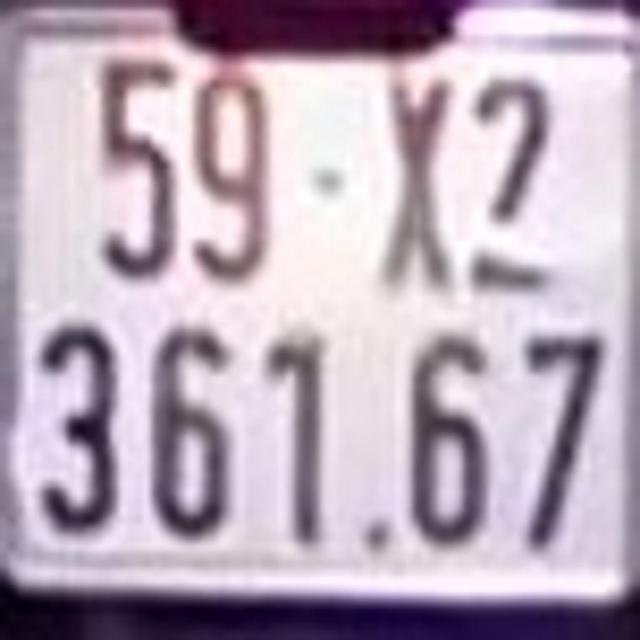1: (258, 312, 330, 554)
2: (466, 60, 554, 308)
3: (39, 310, 118, 534)
5: (97, 44, 178, 282)
6: (146, 312, 234, 542), (406, 320, 494, 550)
7: (518, 320, 612, 548)
9: (188, 54, 270, 286)
X: (378, 63, 458, 300)
